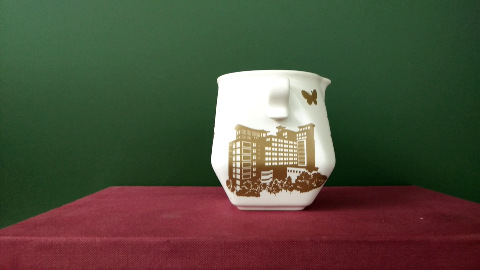butterfly: (295, 78, 326, 112)
lenwen: (238, 138, 313, 190)
